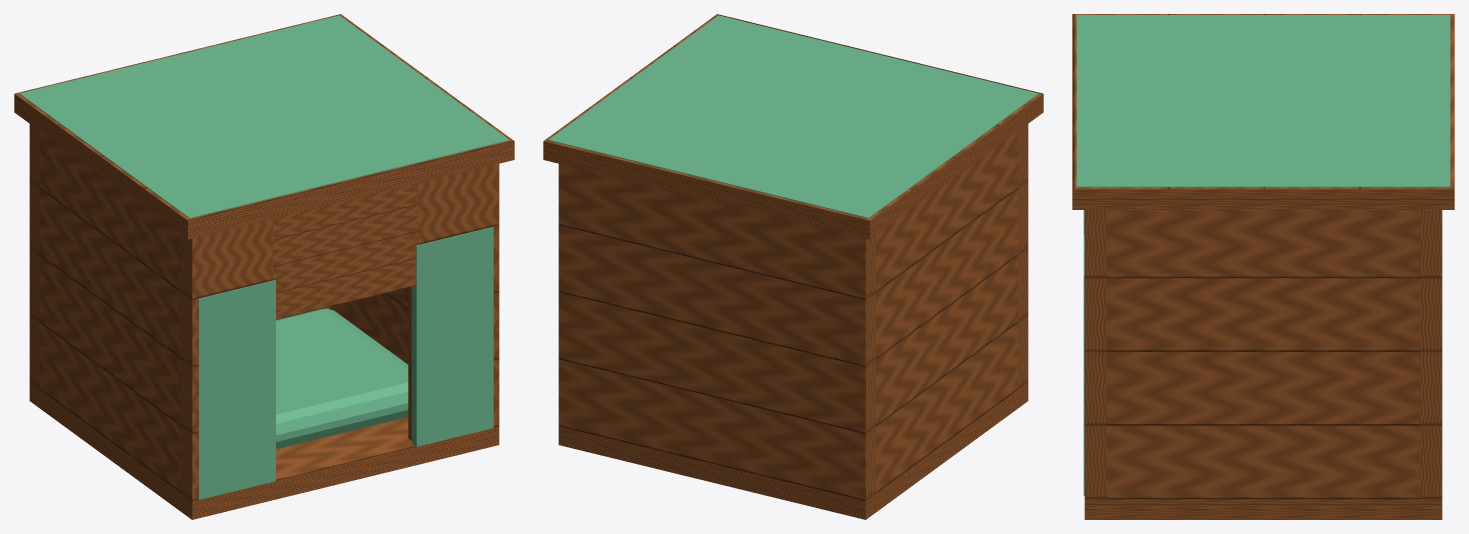
File: boarding-kennels-and-cattery-boarding-kennels-and-catt-7e467fef__35554.glb
The picture shows the model from 3 angles, left to right: view 1: azimuth 30°, elevation 25°; view 2: azimuth 150°, elevation 25°; view 3: azimuth 270°, elevation 25°; orthographic projection. The views are drawn at different scales.
Parts seen in each view (by area): view 1: boarding-kennels-and-cattery-hide-box; view 2: boarding-kennels-and-cattery-hide-box; view 3: boarding-kennels-and-cattery-hide-box.
Part boxes in pixels (x1=…): boarding-kennels-and-cattery-hide-box: x1=14, y1=14, x2=514, y2=519; boarding-kennels-and-cattery-hide-box: x1=543, y1=14, x2=1043, y2=519; boarding-kennels-and-cattery-hide-box: x1=1072, y1=14, x2=1454, y2=519.
Size of the model in its own units: 0.51 by 0.4572 by 0.47.
Materials: 2 (1 with a texture image).
